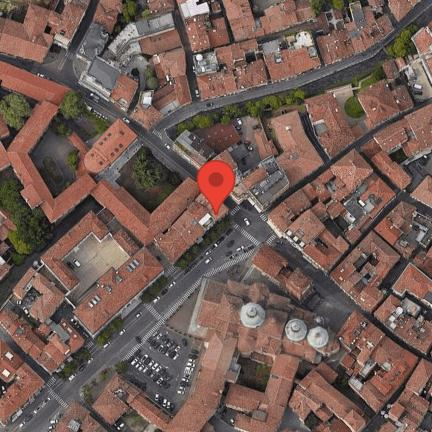area_open: (117, 287, 205, 415), (64, 236, 129, 306), (301, 285, 350, 334), (94, 139, 143, 188), (236, 113, 261, 174), (214, 258, 271, 284), (390, 62, 432, 97), (44, 48, 86, 80), (406, 155, 432, 187), (250, 0, 285, 23), (341, 188, 366, 219), (114, 412, 152, 432), (126, 55, 147, 89), (284, 408, 310, 432), (216, 412, 237, 432), (151, 247, 169, 267), (327, 215, 344, 236), (390, 147, 408, 164), (375, 4, 385, 15)
built: (93, 274, 338, 432), (176, 0, 422, 103), (1, 85, 138, 225), (265, 148, 396, 276), (172, 109, 324, 212), (77, 0, 192, 129), (87, 174, 228, 262), (70, 245, 167, 339), (340, 308, 418, 417), (357, 20, 431, 133), (356, 105, 432, 195), (0, 302, 88, 375), (288, 361, 371, 432), (41, 212, 113, 293), (0, 0, 91, 60), (376, 356, 432, 432), (248, 243, 317, 303), (0, 338, 45, 428), (373, 295, 431, 354), (11, 265, 67, 322), (390, 259, 432, 318), (1, 58, 71, 88), (51, 403, 109, 432), (93, 386, 130, 424), (0, 201, 15, 279), (408, 174, 432, 204), (142, 59, 159, 87), (226, 385, 236, 409), (2, 112, 9, 138)
vegetation_low: (53, 214, 233, 387), (169, 25, 417, 141), (33, 90, 109, 197), (0, 167, 55, 263), (117, 146, 183, 213), (331, 68, 388, 128), (0, 86, 35, 141), (78, 375, 114, 407), (1, 0, 62, 18), (337, 368, 367, 402), (114, 0, 142, 35), (310, 0, 352, 14)
